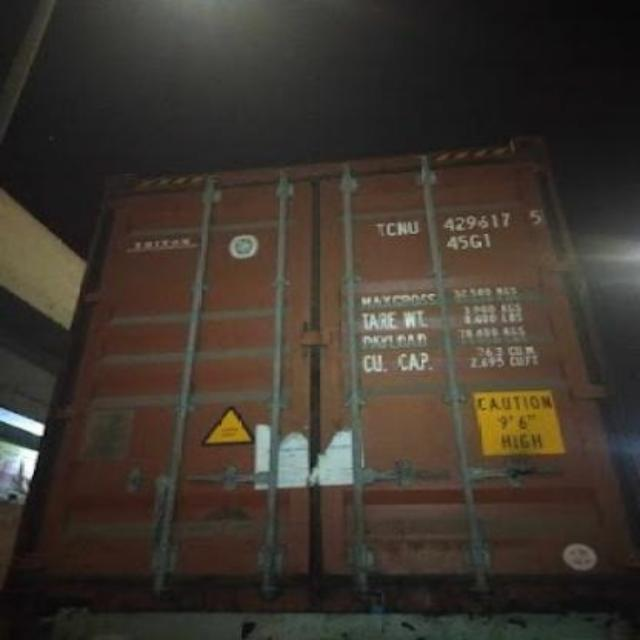1: (488, 210, 500, 234)
2: (454, 211, 466, 231)
4: (441, 210, 454, 233)
5: (526, 204, 544, 230)
6: (476, 209, 488, 229)
7: (498, 204, 512, 232)
9: (466, 212, 476, 232)
C: (384, 216, 396, 240)
N: (396, 216, 408, 240)
T: (376, 216, 386, 240)
U: (406, 216, 419, 237)
